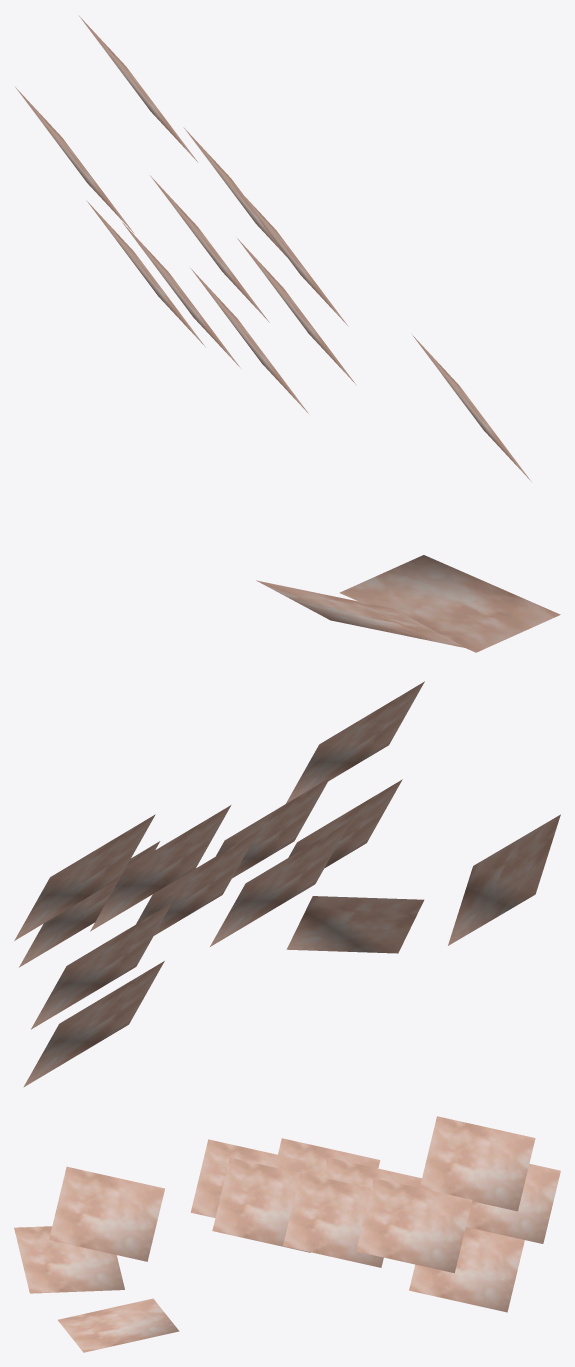
File: stg220_MotCloud_22.obj
3 views of the same model, one above another, from view 1: azimuth 30°, elevation 25°; view 2: azimuth 150°, elevation 25°; view 3: azimuth 270°, elevation 25° (orthographic). The views are drawn at different scales.
Visible parts, largest first — view 1: polygon3, polygon2, polygon1, polygon8, polygon5, polygon10, polygon0, polygon4, polygon6, polygon11, polygon7; view 2: polygon3, polygon2, polygon11, polygon6, polygon0, polygon7, polygon10, polygon1, polygon8, polygon5, polygon4, polygon9; view 3: polygon9, polygon1, polygon0, polygon7, polygon11, polygon5, polygon2, polygon3, polygon10, polygon4, polygon6, polygon8.
Boxes of the visible parts, box(x1,y1,x2,y2) form: polygon3: box(339, 555, 560, 652); polygon2: box(256, 580, 466, 648); polygon1: box(411, 333, 531, 481); polygon8: box(150, 175, 269, 322); polygon5: box(237, 238, 356, 385); polygon10: box(15, 87, 134, 233); polygon0: box(78, 15, 198, 162); polygon4: box(190, 268, 308, 413); polygon6: box(122, 222, 240, 367); polygon11: box(86, 200, 205, 347); polygon7: box(229, 179, 348, 326); polygon3: box(286, 896, 424, 953); polygon2: box(448, 814, 560, 945); polygon11: box(23, 961, 164, 1087); polygon6: box(210, 820, 350, 946); polygon0: box(14, 814, 155, 940); polygon7: box(90, 805, 231, 931); polygon10: box(31, 903, 171, 1029); polygon1: box(286, 681, 424, 803); polygon8: box(136, 831, 258, 935); polygon5: box(216, 778, 329, 878); polygon4: box(288, 779, 402, 868); polygon9: box(19, 841, 160, 967); polygon9: box(356, 1178, 472, 1273); polygon1: box(49, 1166, 164, 1261); polygon0: box(420, 1116, 535, 1211); polygon7: box(283, 1172, 383, 1267); polygon11: box(409, 1227, 524, 1312); polygon5: box(212, 1157, 310, 1252); polygon2: box(14, 1226, 124, 1293); polygon3: box(58, 1298, 179, 1352); polygon10: box(466, 1163, 560, 1243); polygon4: box(190, 1139, 306, 1217); polygon6: box(278, 1138, 380, 1177); polygon8: box(322, 1157, 421, 1188).
Bounding box in the file's own units: 1304 × 1452 × 3570.
Materials: 1 (1 with a texture image).
